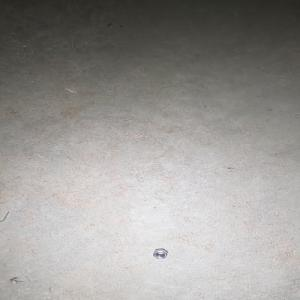Nut: (152, 248, 168, 258)
